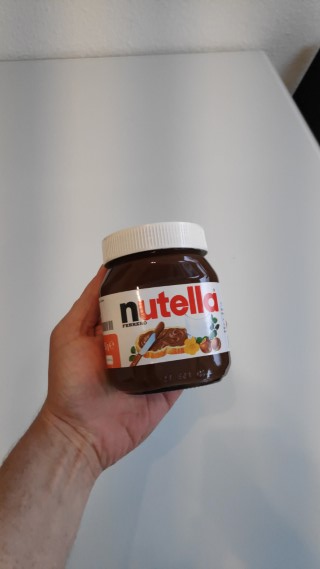nutella: (96, 218, 233, 394)
